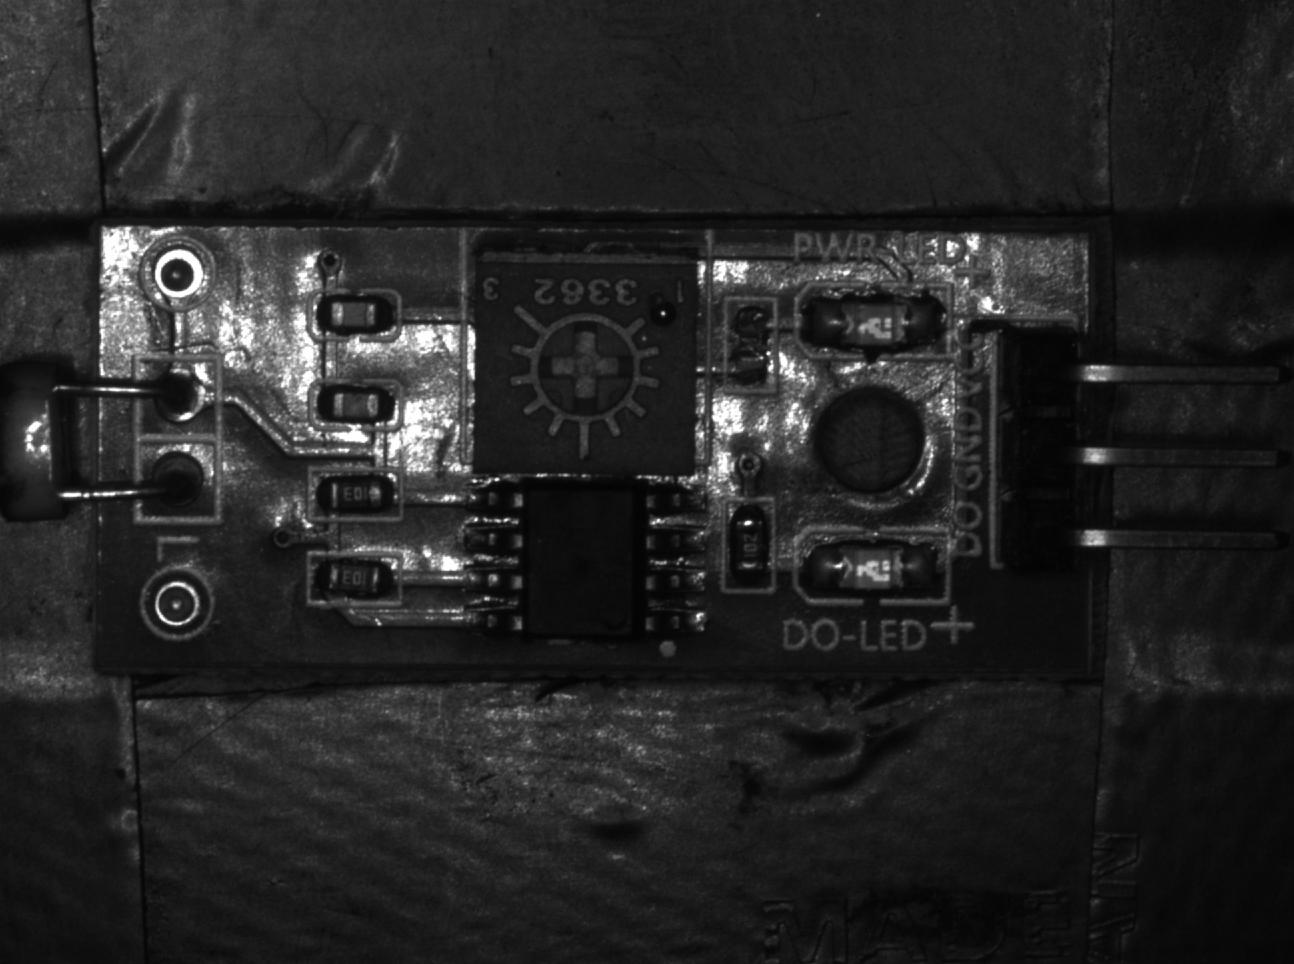miss: (720, 295, 778, 394), (723, 499, 775, 591)
ok: (310, 549, 404, 610), (308, 375, 405, 431), (308, 469, 405, 523), (309, 289, 401, 341)
